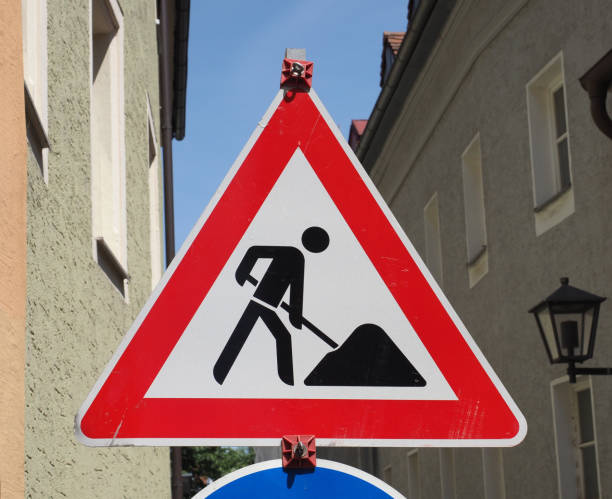yol_calismasi_levha: (78, 74, 528, 446)
